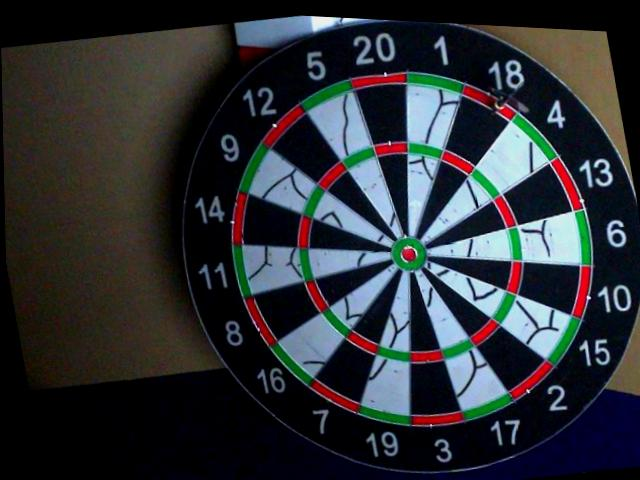double_18: (467, 90, 515, 120)
